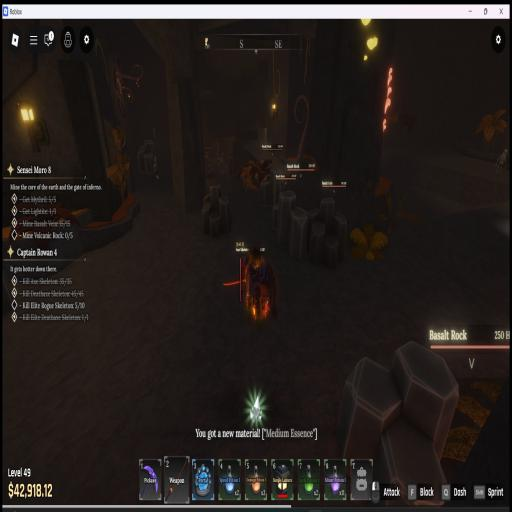player: (244, 248, 276, 317)
rock: (337, 342, 459, 491), (307, 198, 346, 267), (202, 184, 232, 237), (272, 191, 296, 247), (259, 168, 284, 206), (137, 141, 158, 178), (206, 164, 215, 179), (221, 166, 228, 180)
